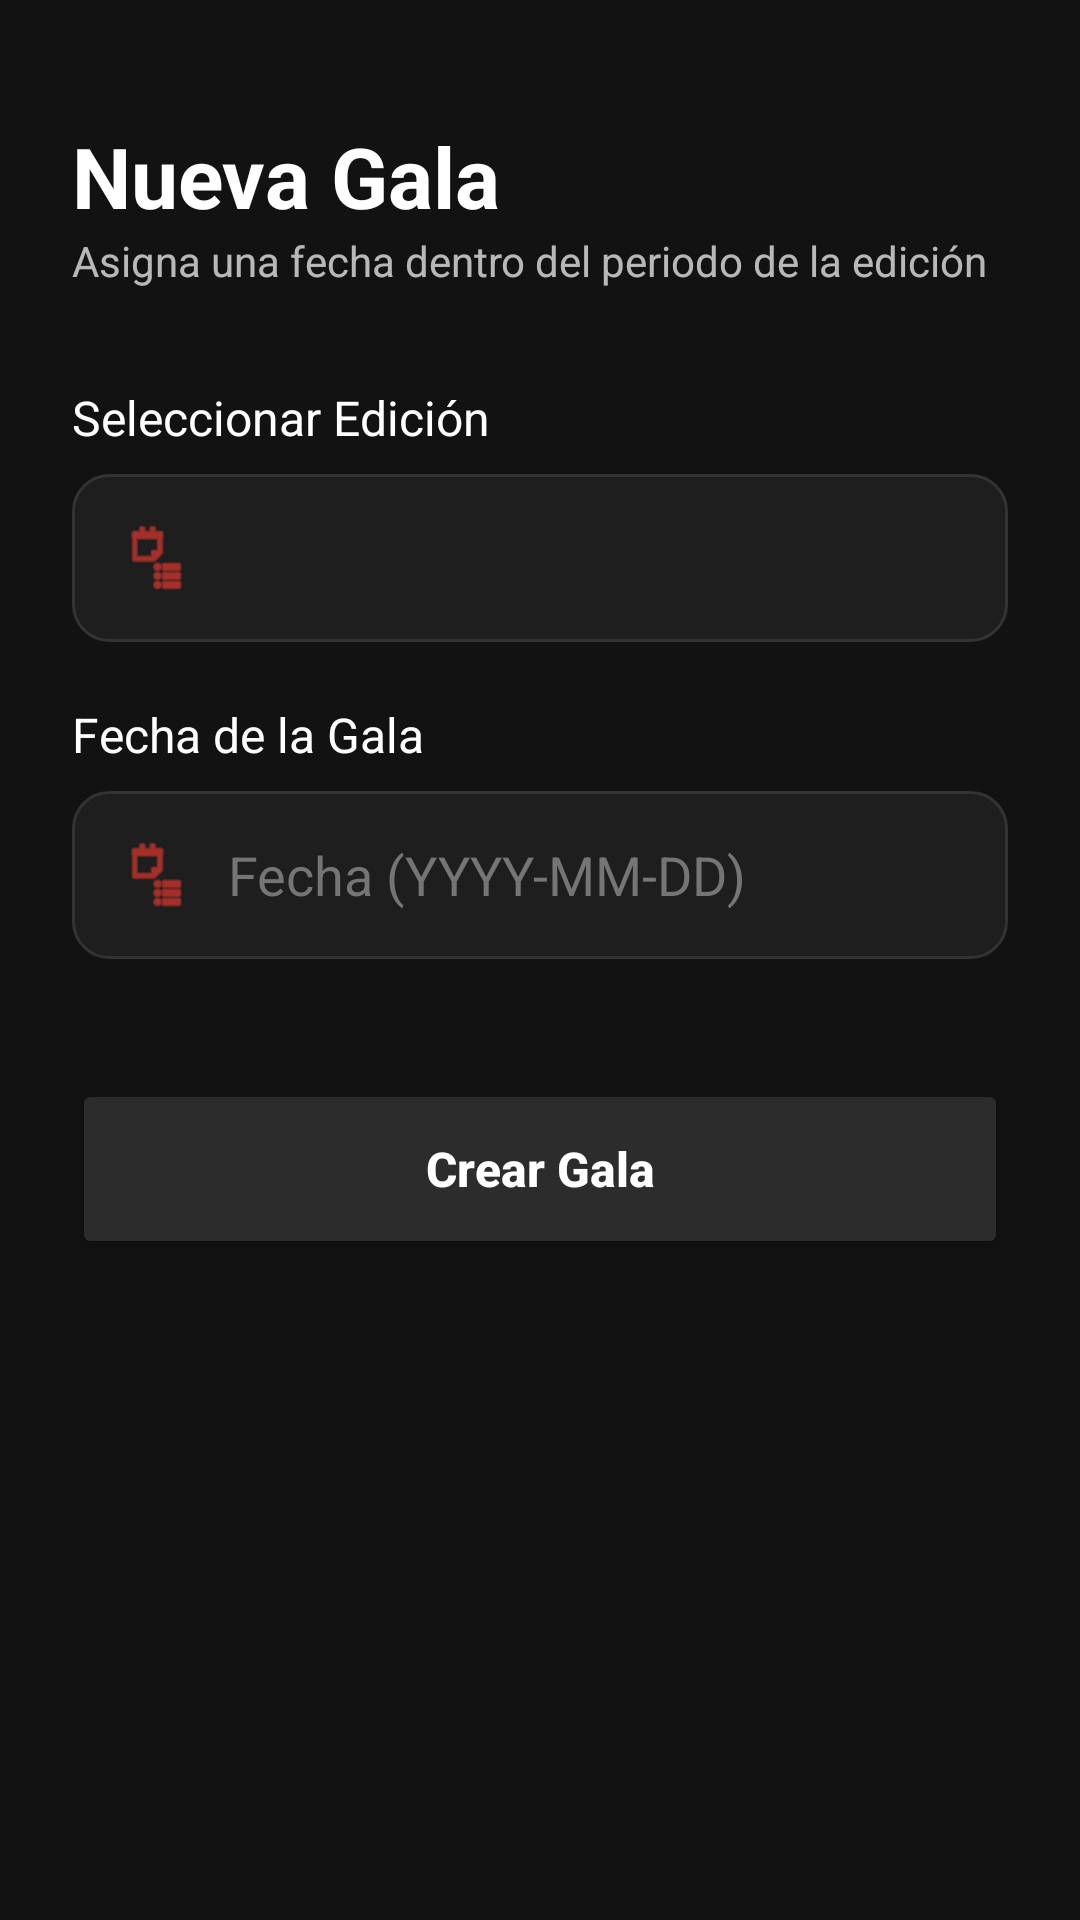

Screen size 1080px x 1920px. Icon name, then its center in pixels as (x,y):
agenda: (156,558), (156,875)
